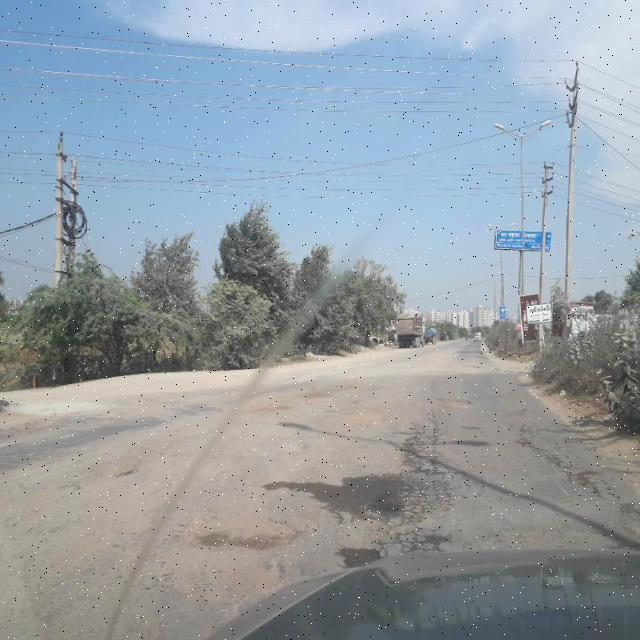D20: (357, 407, 466, 561), (518, 403, 620, 508)
D40: (165, 486, 315, 593), (0, 440, 158, 504), (193, 428, 306, 480), (232, 381, 314, 428), (343, 396, 410, 436), (436, 389, 476, 418)
